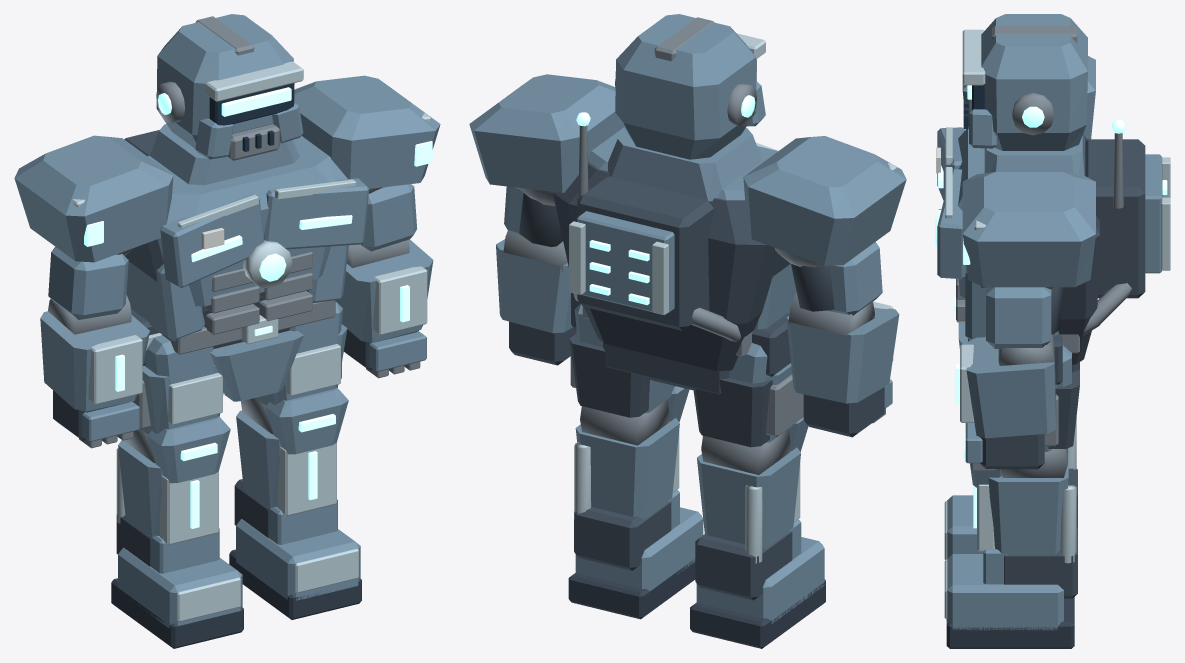
File: player_one.glb
3 views of the same model, side by side, from view 1: azimuth 30°, elevation 25°; view 2: azimuth 150°, elevation 25°; view 3: azimuth 270°, elevation 25° (orthographic). The views are drawn at different scales.
Visible parts, largest first — view 1: shoulder_pauldron_63, shoulder_pauldron_78, helmet_94, thorax_carapace_2, pectoral_plate_13, forearm_bracer_69, pectoral_plate_3, boot_toe_47, boot_toe_31, upper_arm_plate_67, codpiece_24, neck_guard_collar_93 (+52 smaller); view 2: shoulder_pauldron_63, helmet_94, torso_1, shoulder_pauldron_78, reactor_pack_108, forearm_bracer_69, shin_armor_51, shin_armor_35, neck_guard_collar_93, reactor_armored_cover_109, forearm_bracer_84, boot_ankle_49 (+31 smaller); view 3: shoulder_pauldron_78, helmet_94, reactor_pack_108, forearm_bracer_84, boot_toe_47, shin_armor_51, upper_arm_plate_82, boot_sole_46, boot_ankle_49, neck_guard_collar_93, torso_1, pectoral_plate_13 (+28 smaller).
Boxes of the visible parts, x1=… form: shoulder_pauldron_63: x1=14, y1=135, x2=173, y2=262; shoulder_pauldron_78: x1=294, y1=75, x2=440, y2=188; helmet_94: x1=156, y1=14, x2=293, y2=148; thorax_carapace_2: x1=147, y1=136, x2=347, y2=306; pectoral_plate_13: x1=264, y1=178, x2=369, y2=249; forearm_bracer_69: x1=40, y1=311, x2=149, y2=411; pectoral_plate_3: x1=160, y1=194, x2=263, y2=287; boot_toe_47: x1=236, y1=519, x2=360, y2=600; boot_toe_31: x1=118, y1=547, x2=242, y2=628; upper_arm_plate_67: x1=48, y1=247, x2=128, y2=319; codpiece_24: x1=210, y1=330, x2=303, y2=401; neck_guard_collar_93: x1=149, y1=124, x2=299, y2=185; shoulder_pauldron_63: x1=743, y1=136, x2=906, y2=265; helmet_94: x1=615, y1=14, x2=756, y2=159; torso_1: x1=553, y1=161, x2=790, y2=370; shoulder_pauldron_78: x1=469, y1=74, x2=623, y2=192; reactor_pack_108: x1=577, y1=176, x2=713, y2=330; forearm_bracer_69: x1=786, y1=307, x2=899, y2=403; shin_armor_51: x1=575, y1=418, x2=679, y2=519; shin_armor_35: x1=697, y1=447, x2=800, y2=548; neck_guard_collar_93: x1=608, y1=128, x2=762, y2=201; reactor_armored_cover_109: x1=577, y1=211, x2=674, y2=315; forearm_bracer_84: x1=496, y1=239, x2=572, y2=333; boot_ankle_49: x1=574, y1=501, x2=671, y2=570; shoulder_pauldron_78: x1=962, y1=172, x2=1095, y2=287; helmet_94: x1=981, y1=14, x2=1087, y2=150; reactor_pack_108: x1=1085, y1=139, x2=1145, y2=298; forearm_bracer_84: x1=966, y1=337, x2=1056, y2=438; boot_toe_47: x1=946, y1=554, x2=1063, y2=630; shin_armor_51: x1=988, y1=450, x2=1068, y2=554; upper_arm_plate_82: x1=986, y1=287, x2=1051, y2=348; boot_sole_46: x1=946, y1=597, x2=1074, y2=648; boot_ankle_49: x1=1004, y1=527, x2=1077, y2=598; neck_guard_collar_93: x1=984, y1=131, x2=1085, y2=175; torso_1: x1=981, y1=136, x2=1099, y2=364; pectoral_plate_13: x1=937, y1=169, x2=966, y2=279.
Bounding box in the file's own units: 1.65 × 2.37 × 0.8835.
